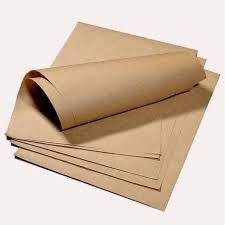paper: (5, 20, 220, 213)
